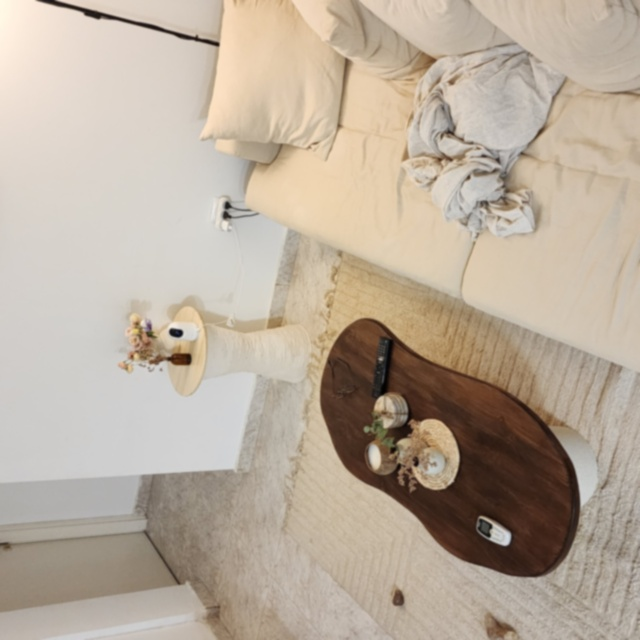glasses: (323, 356, 362, 404)
